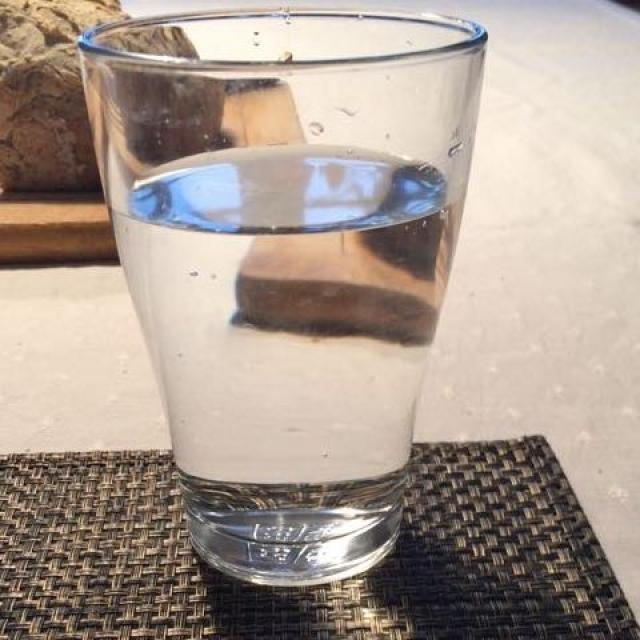water: (113, 122, 462, 487)
